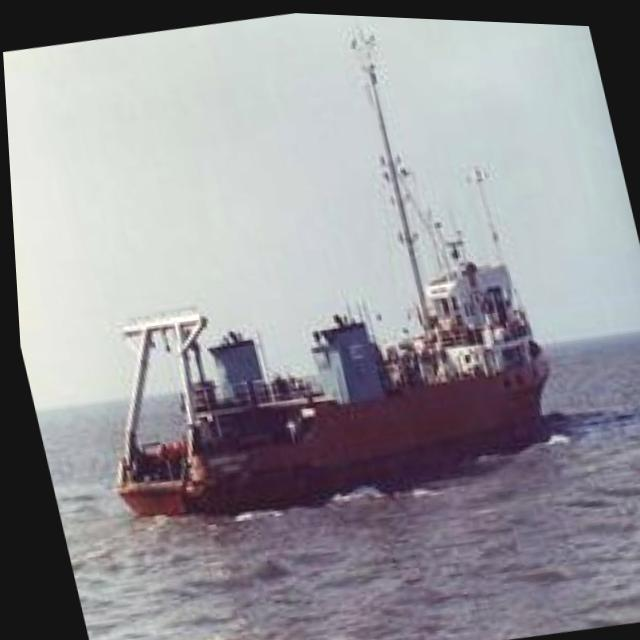ship2: (108, 62, 549, 521)
